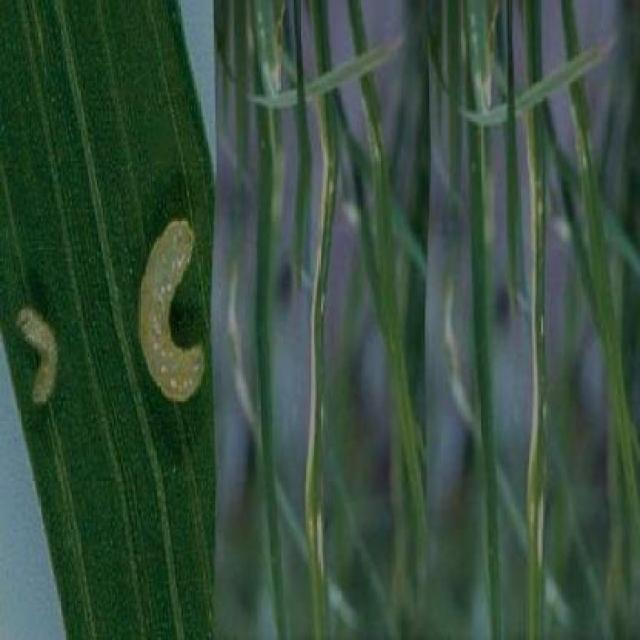whorl-maggot: (130, 215, 212, 414), (16, 296, 62, 418)
